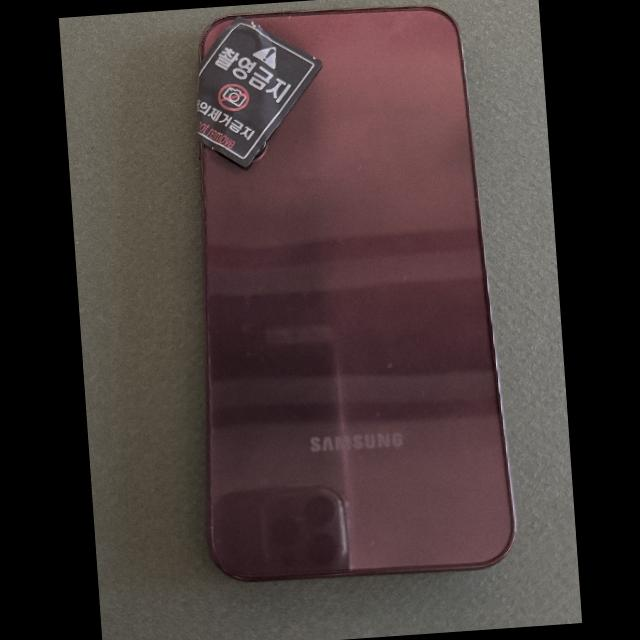phone: (196, 6, 514, 581)
sticker: (196, 16, 323, 168)
